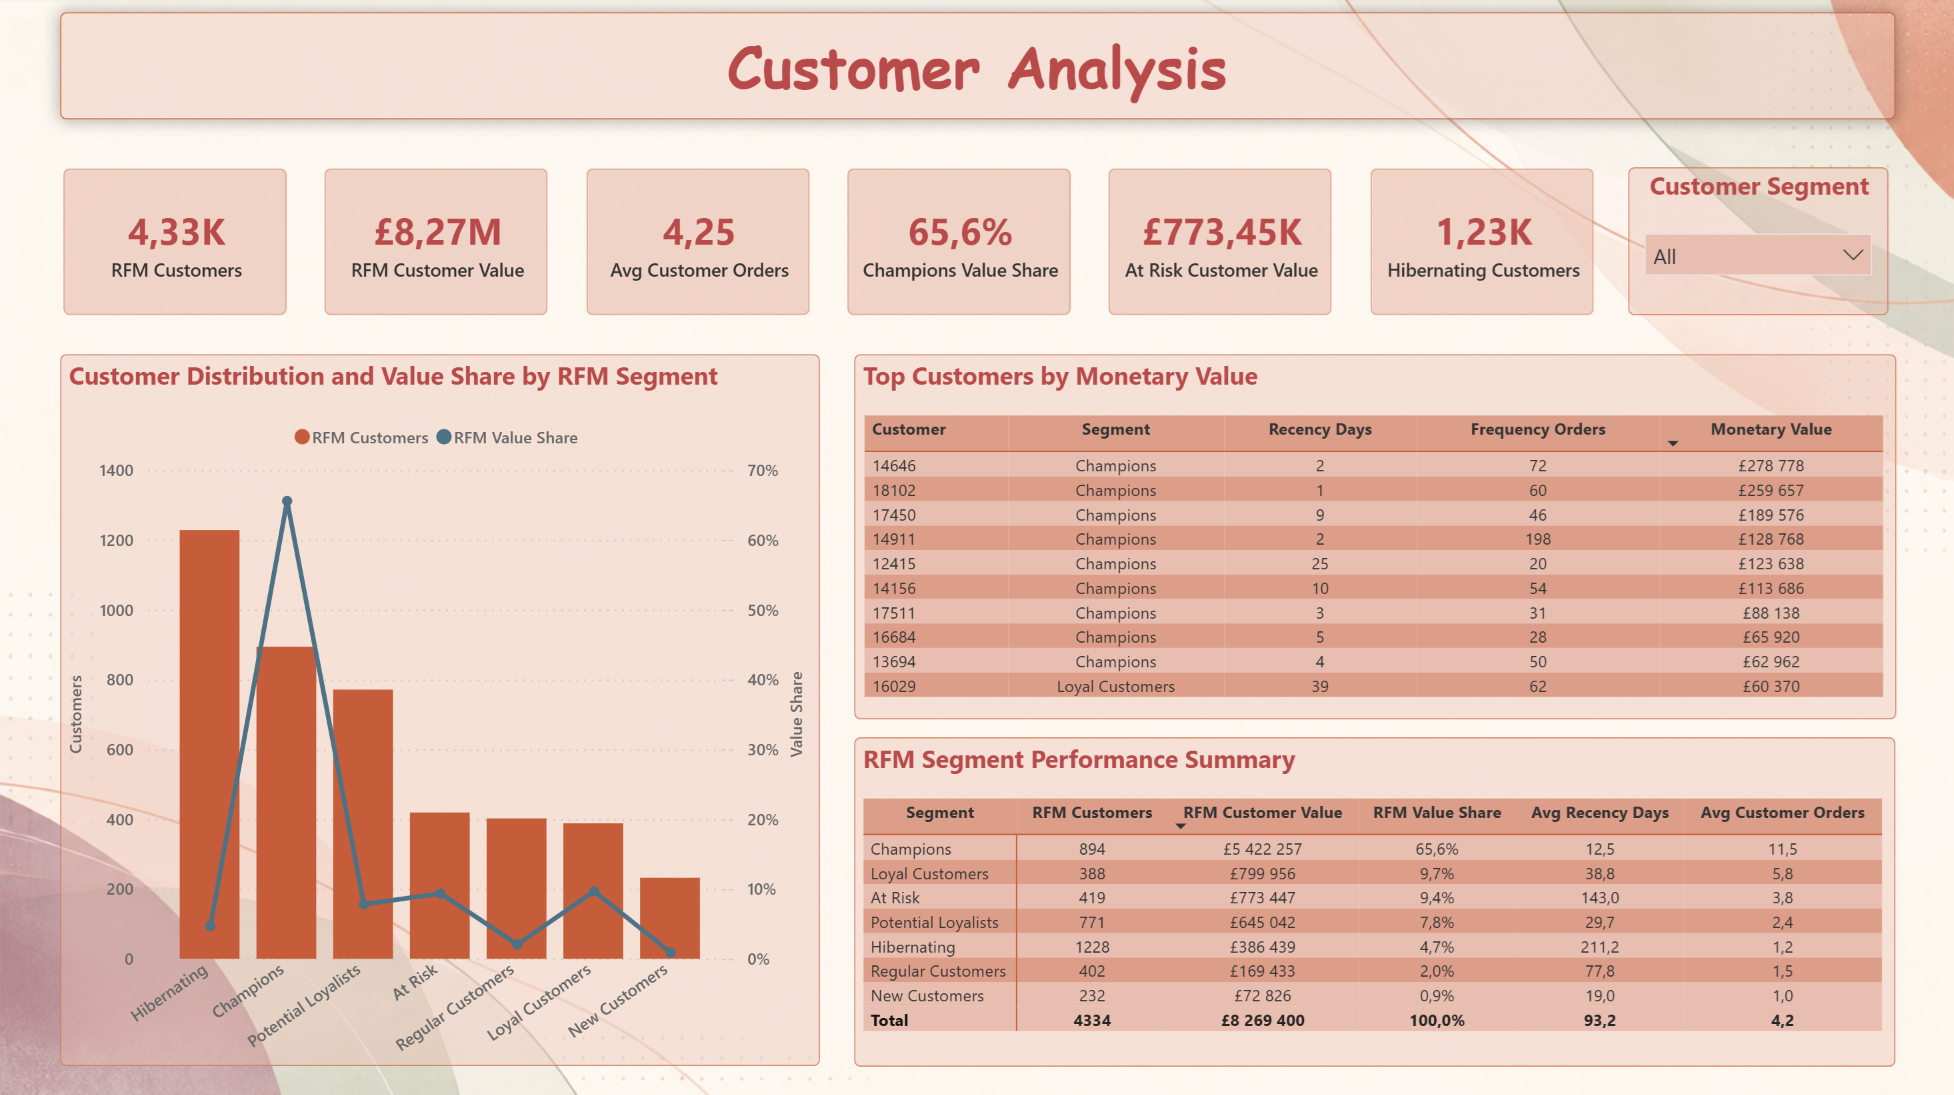

This screenshot's page, from the dashboard's own definition file:
{"tool":"powerbi","page":{"name":"Customer Analysis","canvas":[1280,720],"ordinal":2},"visuals":[{"type":"cardVisual","fields":{"Data":["_Measures.RFM Customers"]},"box":[40,110,150,100],"z":0},{"type":"cardVisual","fields":{"Data":["_Measures.RFM Customer Value"]},"box":[210.9,110,150,100],"z":1000},{"type":"cardVisual","fields":{"Data":["_Measures.Average Customer Orders"]},"box":[381.8,110,150,100],"z":2000},{"type":"lineClusteredColumnComboChart","title":"Customer Distribution and Value Share by RFM Segment","fields":{"Category":["dim_customer.customer_segment"],"Y":["_Measures.RFM Customers"],"Y2":["_Measures.RFM Value Share"]},"box":[39.9,233.5,496.4,465.6],"z":3000},{"type":"pivotTable","title":"RFM Segment Performance Summary","fields":{"Rows":["dim_customer.customer_segment"],"Values":["_Measures.RFM Customers","_Measures.RFM Customer Value","_Measures.RFM Value Share","_Measures.Average Recency Days","_Measures.Average Customer Orders"]},"box":[559.1,483.9,680.8,215.2],"z":4000},{"type":"tableEx","title":"Top Customers by Monetary Value","fields":{"Values":["dim_customer.customer_id","dim_customer.customer_segment","Sum(dim_customer.recency_days)","Sum(dim_customer.frequency_orders)","Sum(dim_customer.monetary_net_value)"]},"box":[559.1,233.5,681.4,238.7],"z":5000},{"type":"slicer","title":"Customer Segment","fields":{"Values":["dim_customer.customer_segment"]},"box":[1065.3,111.2,170,96.8],"z":6000},{"type":"cardVisual","fields":{"Data":["_Measures.At Risk Customer Value"]},"box":[723.5,110,150,100],"z":7000},{"type":"cardVisual","fields":{"Data":["_Measures.Champions Value Share"]},"box":[552.6,110,150,100],"z":8000},{"type":"cardVisual","fields":{"Data":["_Measures.Hibernating Customers"]},"box":[894.4,109.9,150,100],"z":9000},{"type":"textbox","box":[40,10,1200,70],"z":11000}]}

Visuals, with their boxes in screenshot pixels (x1, y1, x2, y2), scaled from the page's 1280x720 canvas onto the 1954x1095 screenshot:
cardVisual - _Measures.RFM Customers: bbox=[61, 167, 290, 319]
cardVisual - _Measures.RFM Customer Value: bbox=[322, 167, 551, 319]
cardVisual - _Measures.Average Customer Orders: bbox=[583, 167, 812, 319]
"Customer Distribution and Value Share by RFM Segment" lineClusteredColumnComboChart: bbox=[61, 355, 819, 1063]
"RFM Segment Performance Summary" pivotTable: bbox=[854, 736, 1893, 1063]
"Top Customers by Monetary Value" tableEx: bbox=[854, 355, 1894, 718]
"Customer Segment" slicer: bbox=[1626, 169, 1886, 316]
cardVisual - _Measures.At Risk Customer Value: bbox=[1104, 167, 1333, 319]
cardVisual - _Measures.Champions Value Share: bbox=[844, 167, 1073, 319]
cardVisual - _Measures.Hibernating Customers: bbox=[1365, 167, 1594, 319]
textbox: bbox=[61, 15, 1893, 122]
